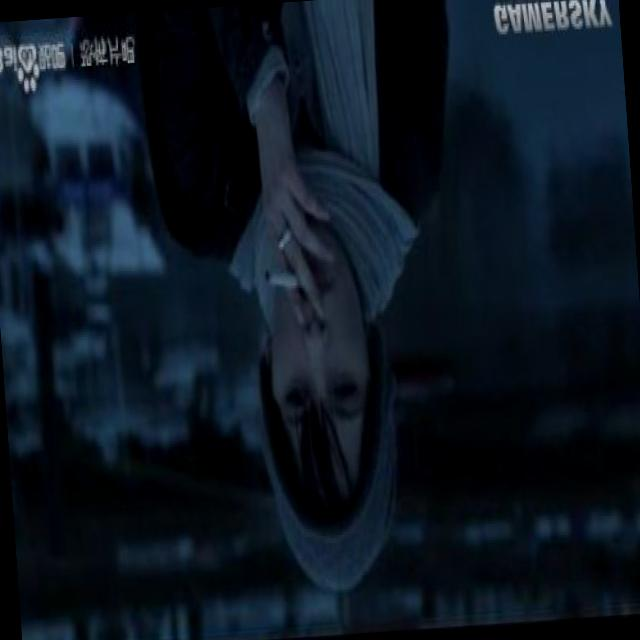smoke: (261, 268, 303, 288)
